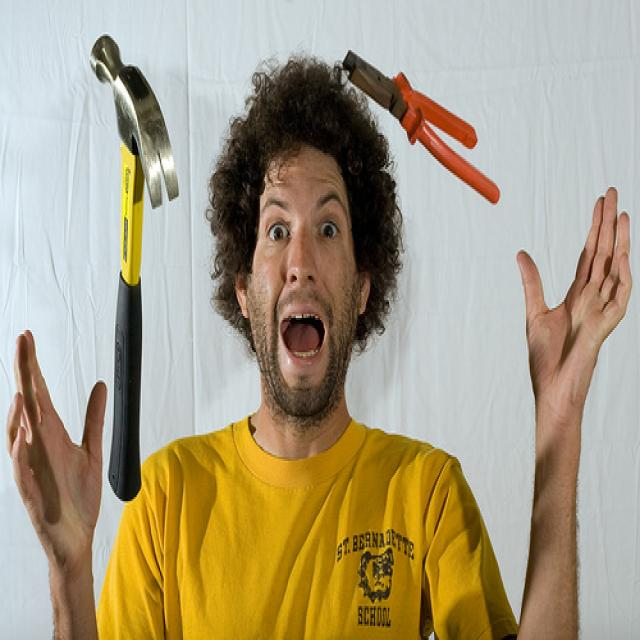hammer: (70, 30, 202, 499)
